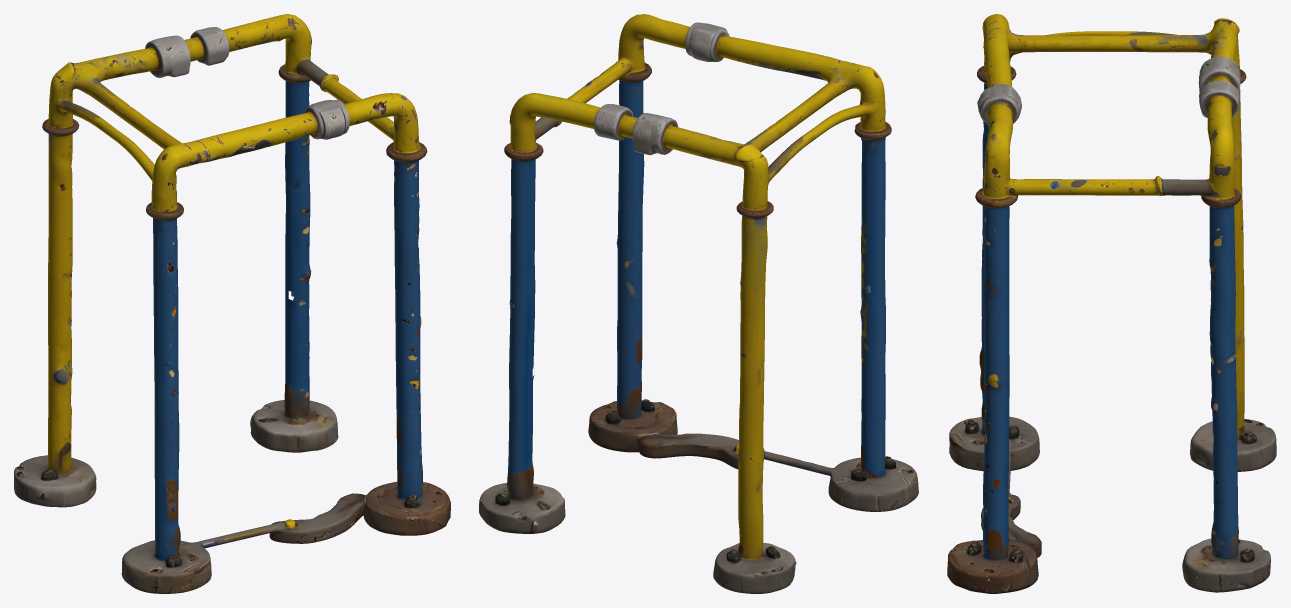
File: g67_workout_bars.glb
The picture shows the model from 3 angles, left to right: view 1: azimuth 30°, elevation 25°; view 2: azimuth 150°, elevation 25°; view 3: azimuth 270°, elevation 25°; orthographic projection. The views are drawn at different scales.
Parts seen in each view (by area): view 1: tripo_node_be9fc53a; view 2: tripo_node_be9fc53a; view 3: tripo_node_be9fc53a.
Boxes of the visible parts, x1,y1,x2,y2 form: tripo_node_be9fc53a: [14, 14, 450, 593]; tripo_node_be9fc53a: [479, 14, 918, 593]; tripo_node_be9fc53a: [947, 14, 1276, 593].
Size of the model in its own units: 75.21 by 98.17 by 65.33.
Materials: 1 (1 with a texture image).
